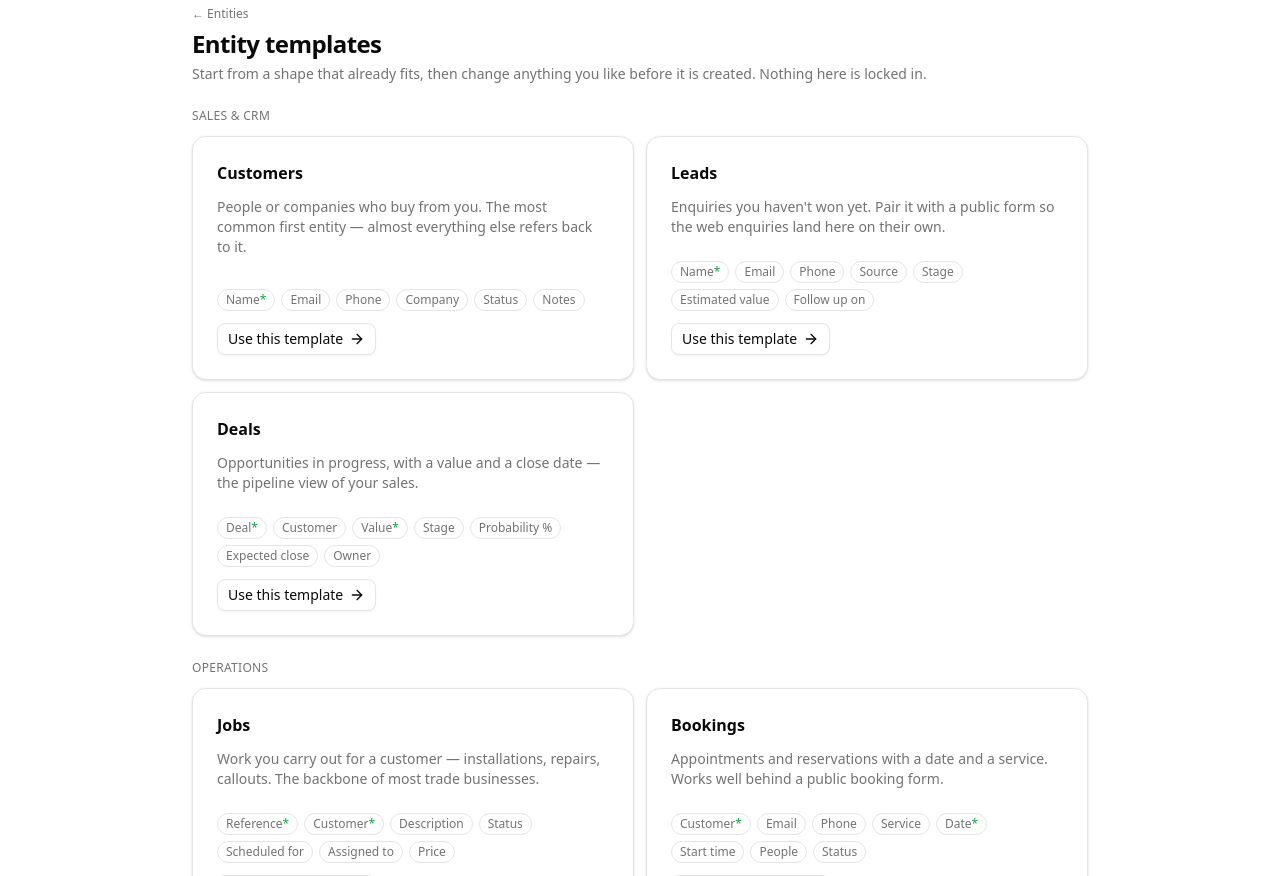
EntityTemplatesPage › seeds the create dialog from the chosen template without creating anything yet
This screenshot has width=1280, height=876.
Click the button "Use this template" below "Company" at (297, 339), box [217,323,376,355]
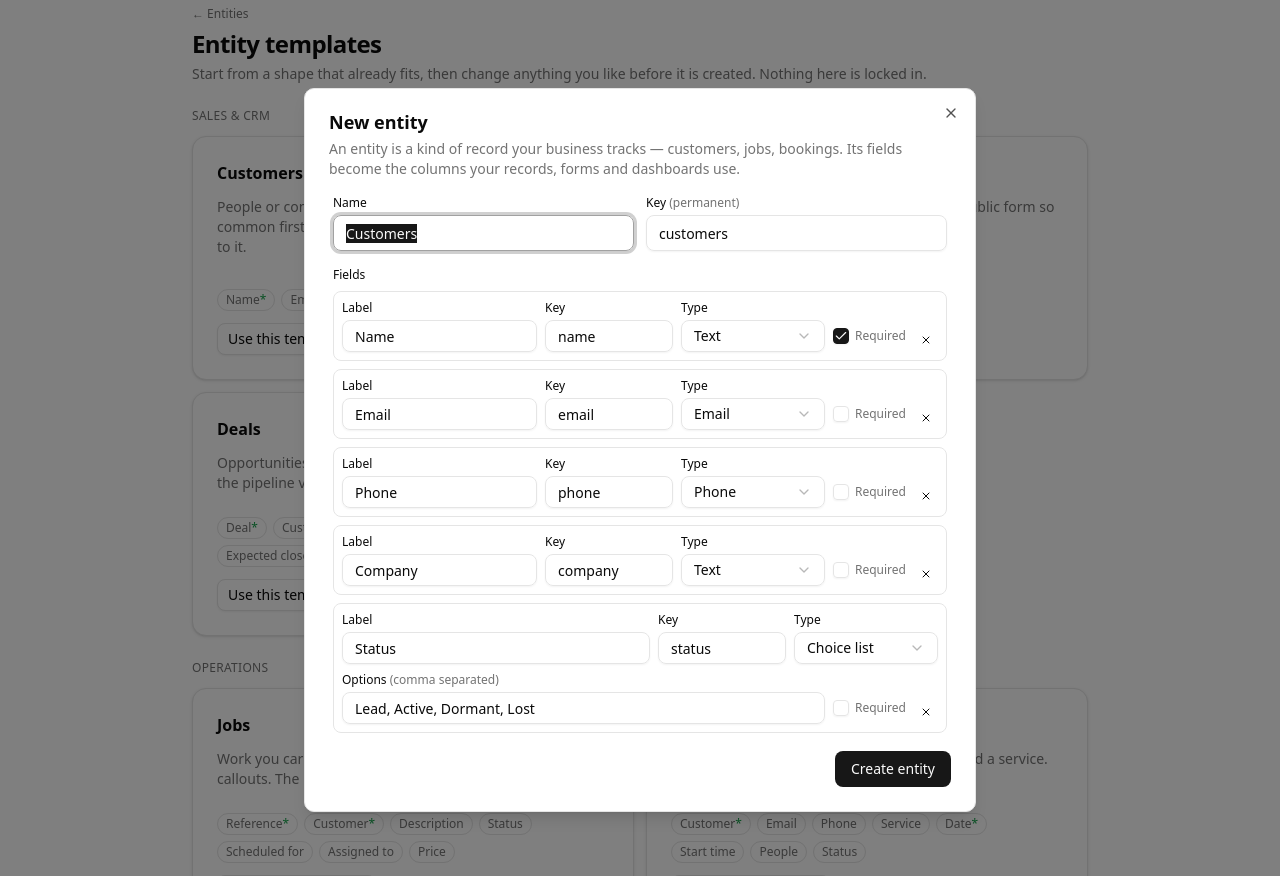
expect the dialog is shown: met, box [304,88,976,812]
expect the field labelled "Name" holds "Customers": met, box [333,215,634,251]
expect the field labelled "Key (permanent)" holds "customers": met, box [646,215,947,251]
